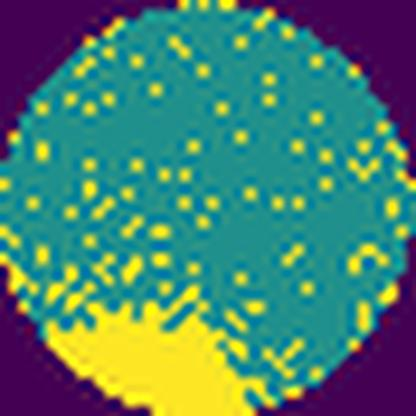Edge-Loc: (43, 295, 260, 416)
